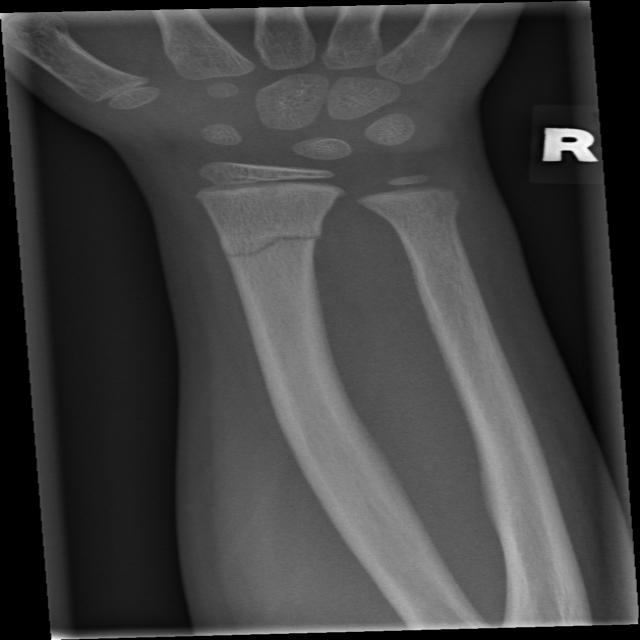radius fracture: (175, 207, 364, 334)
